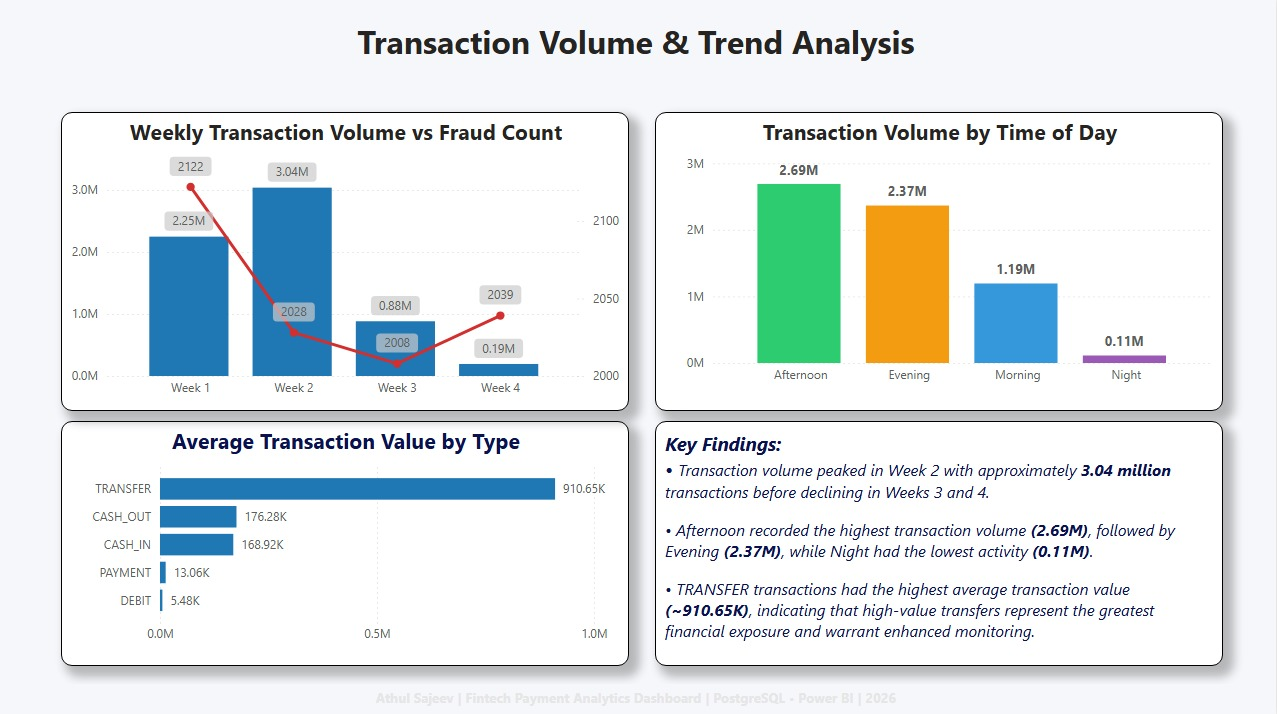

Layout of this report page (visuals, bound fields, positions):
{"tool":"powerbi","page":{"name":"Transaction Patterns","canvas":[1280,720],"ordinal":2},"visuals":[{"type":"textbox","box":[247.1,16.5,785.9,74.9],"z":0},{"type":"clusteredColumnChart","title":"Transaction Volume by Time of Day","fields":{"Category":["query3_fraud_by_time.time_of_day"],"Y":["Sum(query3_fraud_by_time.total_transactions)"]},"box":[659.5,114.8,568,299.6],"z":1000},{"type":"clusteredBarChart","title":"Average Transaction Value by Type","fields":{"Category":["query2_fraud_by_type.type"],"Y":["Sum(query2_fraud_by_type.avg_transaction_value)"]},"box":[65.2,424.1,568,245.1],"z":2000},{"type":"textbox","box":[659,424.3,568,245],"z":3000},{"type":"lineClusteredColumnComboChart","title":"Weekly Transaction Volume vs Fraud Count","fields":{"Y":["Sum(query4_weekly_trend.total_transactions)"],"Y2":["Sum(query4_weekly_trend.fraud_count)"],"Category":["query4_weekly_trend.week_period"]},"box":[65.2,114.8,568,299.6],"z":4000},{"type":"textbox","box":[0,686.7,1280,33.1],"z":4001}]}

Visuals, with their boxes in screenshot pixels (x1, y1, x2, y2), scaled from the page's 1280x720 canvas onto the 1277x714 screenshot:
textbox: 247, 16, 1031, 91
"Transaction Volume by Time of Day" clusteredColumnChart: 658, 114, 1225, 411
"Average Transaction Value by Type" clusteredBarChart: 65, 421, 632, 664
textbox: 657, 421, 1224, 664
"Weekly Transaction Volume vs Fraud Count" lineClusteredColumnComboChart: 65, 114, 632, 411
textbox: 0, 681, 1276, 713
